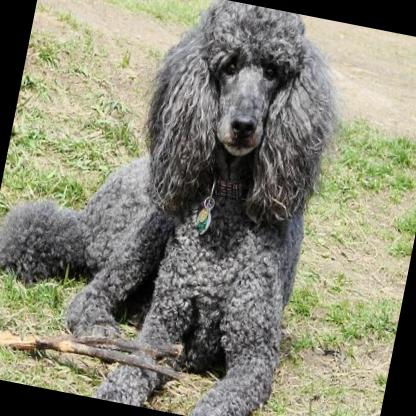standard_poodle: (0, 0, 353, 416)
